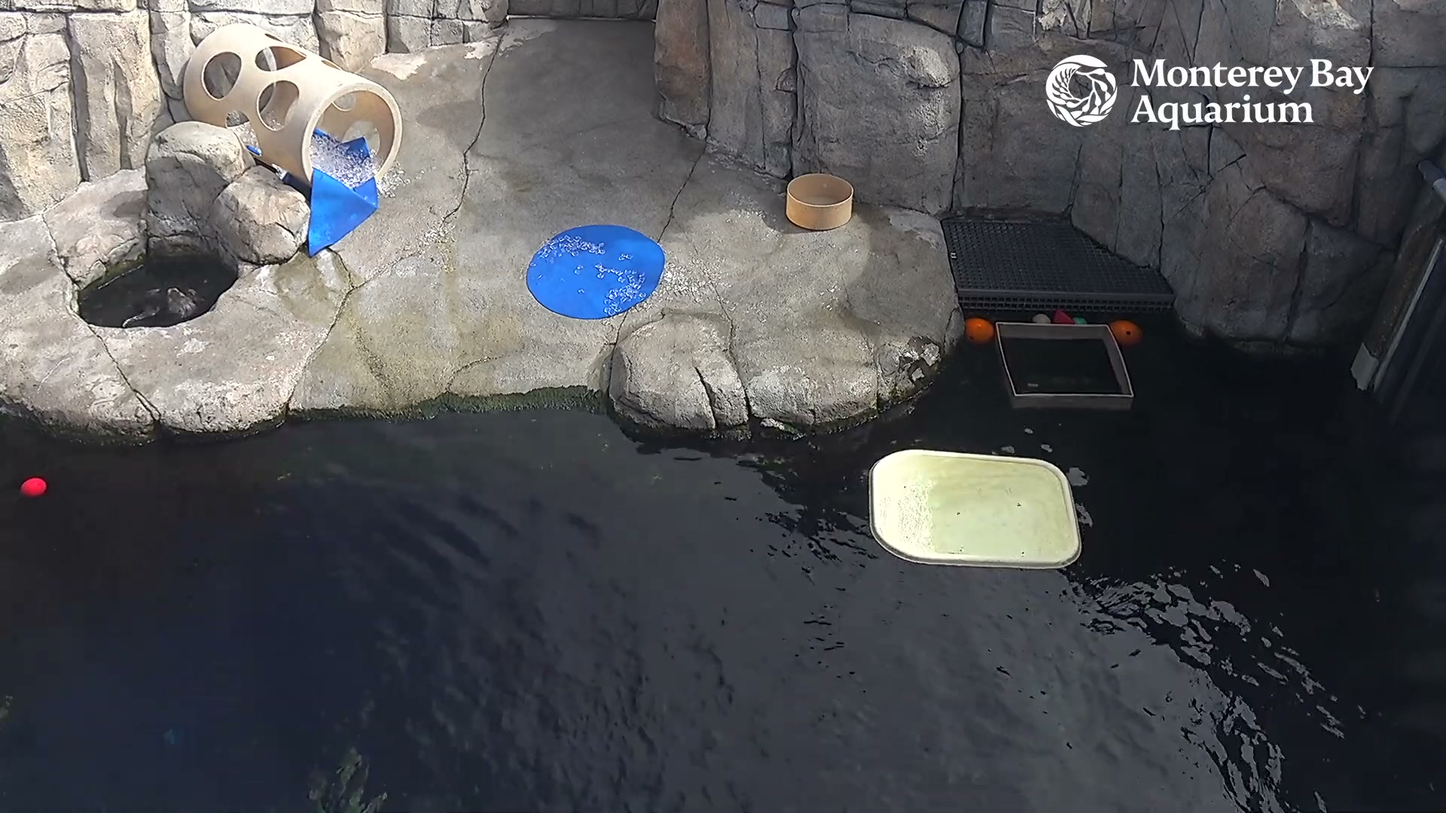Southern Sea Otter: (137, 271, 216, 343)
